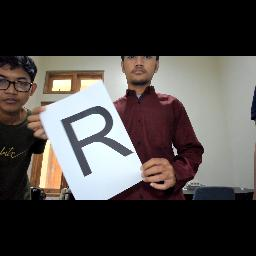r: (54, 104, 146, 186)
